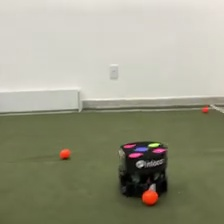ball: (140, 186, 160, 207), (58, 146, 72, 160), (200, 103, 211, 114)
goal: (1, 87, 83, 115)
robot: (116, 139, 170, 199)
